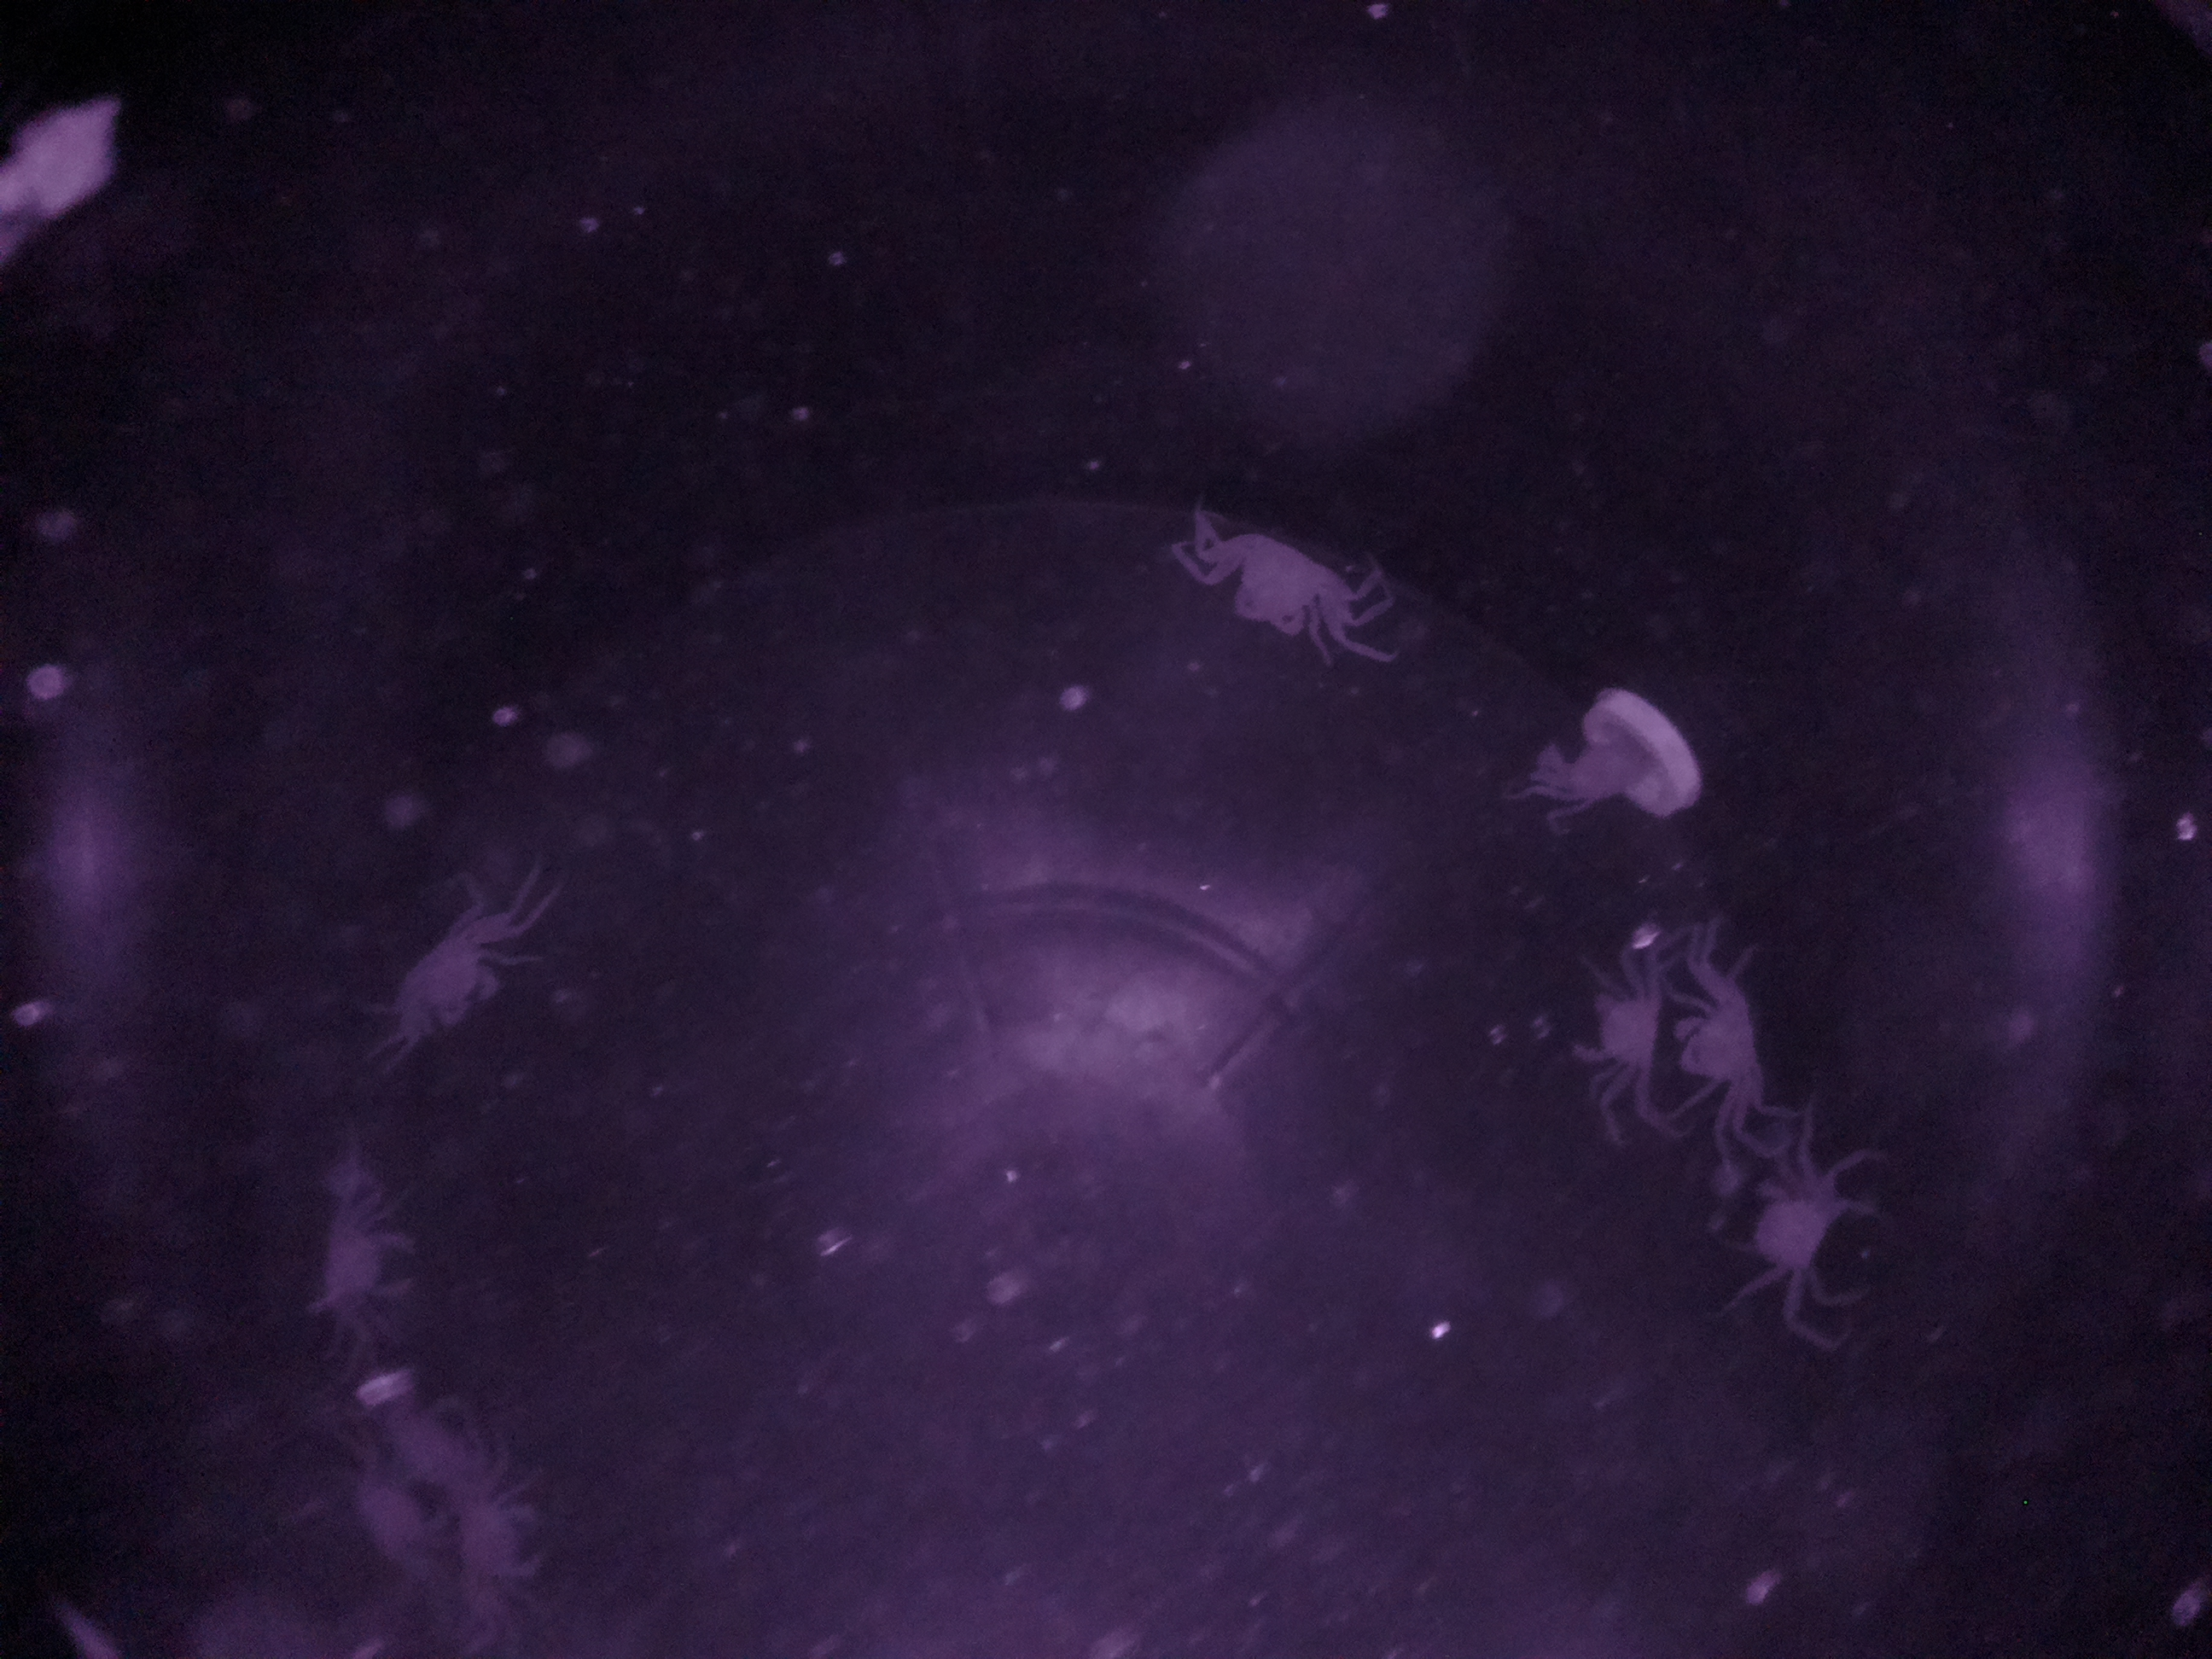Crab: (1716, 1121, 1876, 1337), (1188, 509, 1367, 662), (1559, 945, 1660, 1176), (1667, 938, 1787, 1131), (376, 889, 516, 1051)
